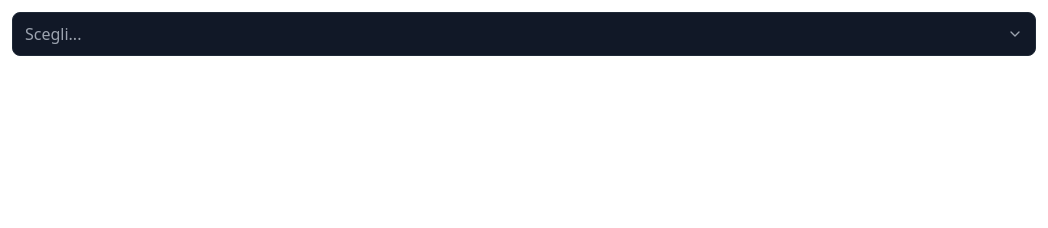
Test: Select › opens the popup on click and lists the options
Click the dropdown named "Tecnologia di stampa": click(53, 34) [12, 12, 1036, 56]
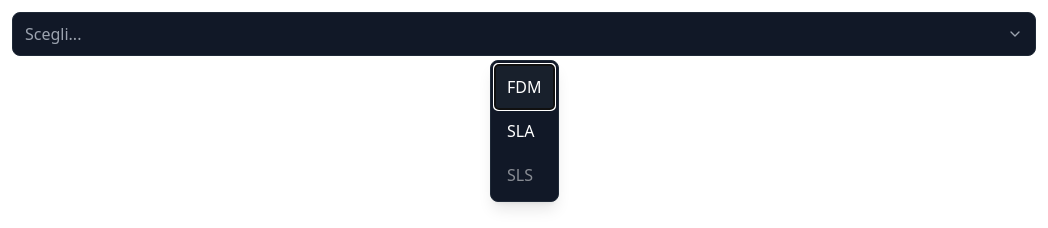
Now the option "FDM" is shown, box [495, 65, 554, 109]
Now the option "SLA" is shown, box [507, 120, 534, 142]
